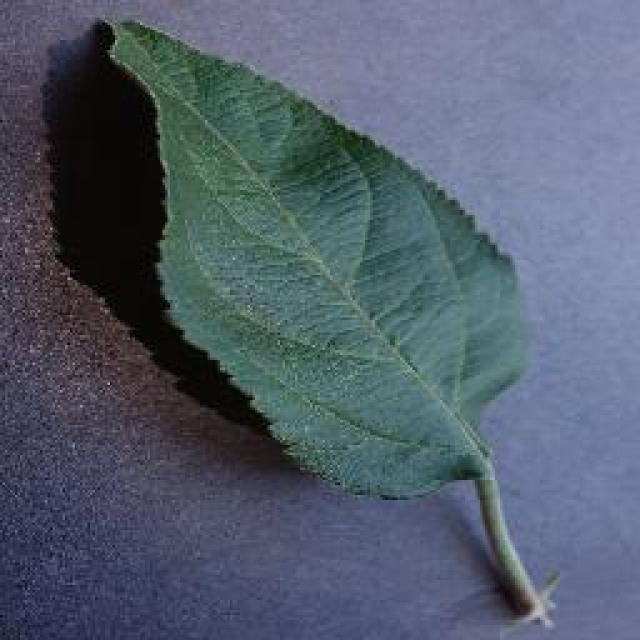apple healthy: (92, 12, 562, 630)
